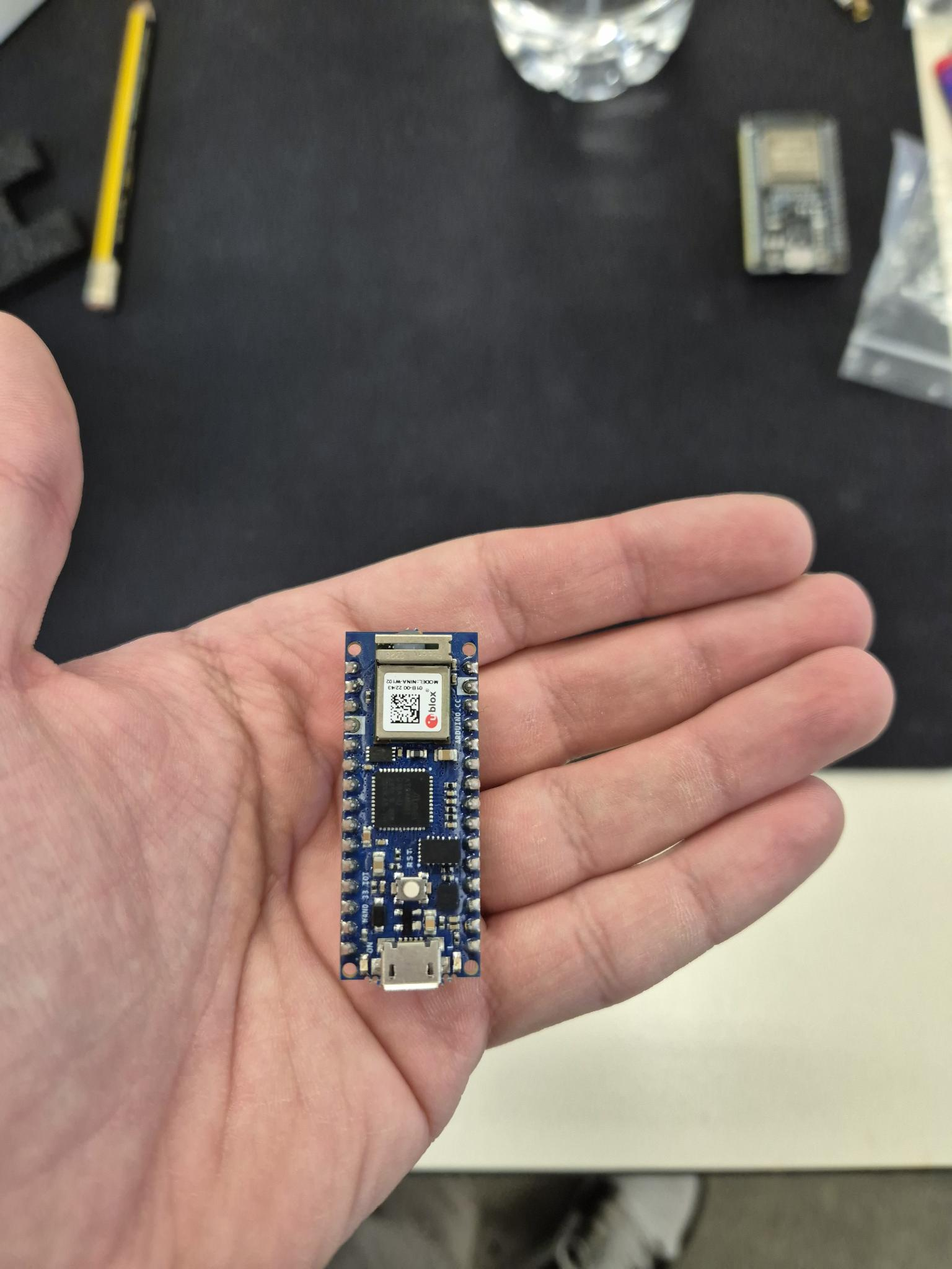arduino-nano-iot-33: (344, 628, 486, 987)
